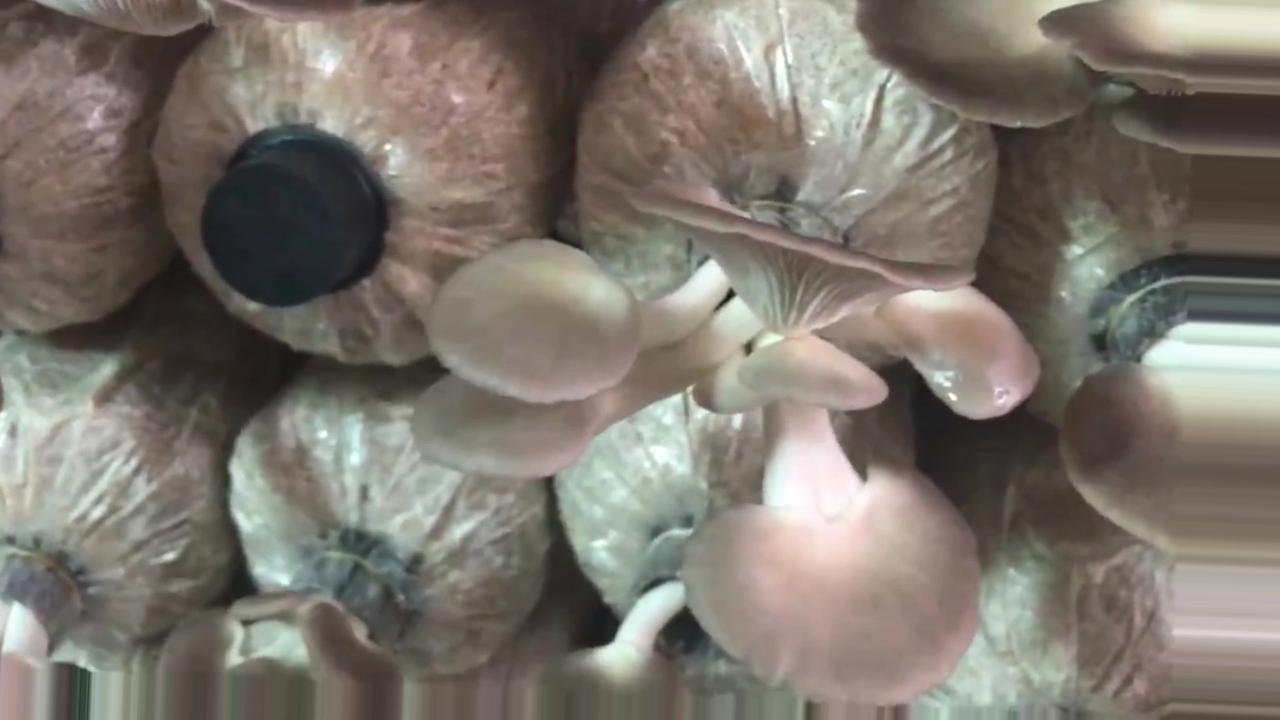nam: (403, 184, 1046, 706), (850, 1, 1280, 163)
